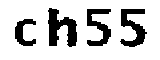5: (117, 5, 148, 51), (84, 5, 112, 49)
c: (11, 17, 38, 49)
h: (44, 3, 80, 50)
